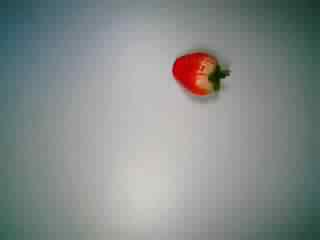strawberry: (167, 46, 235, 110)
